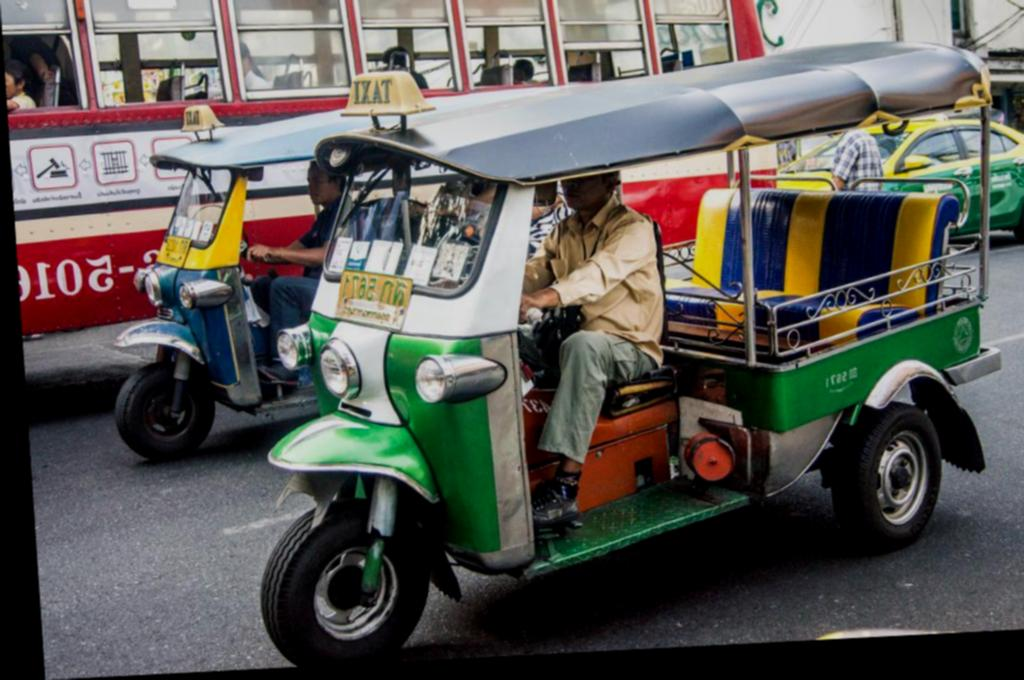License_Plate: (329, 262, 418, 339), (152, 233, 194, 270)
